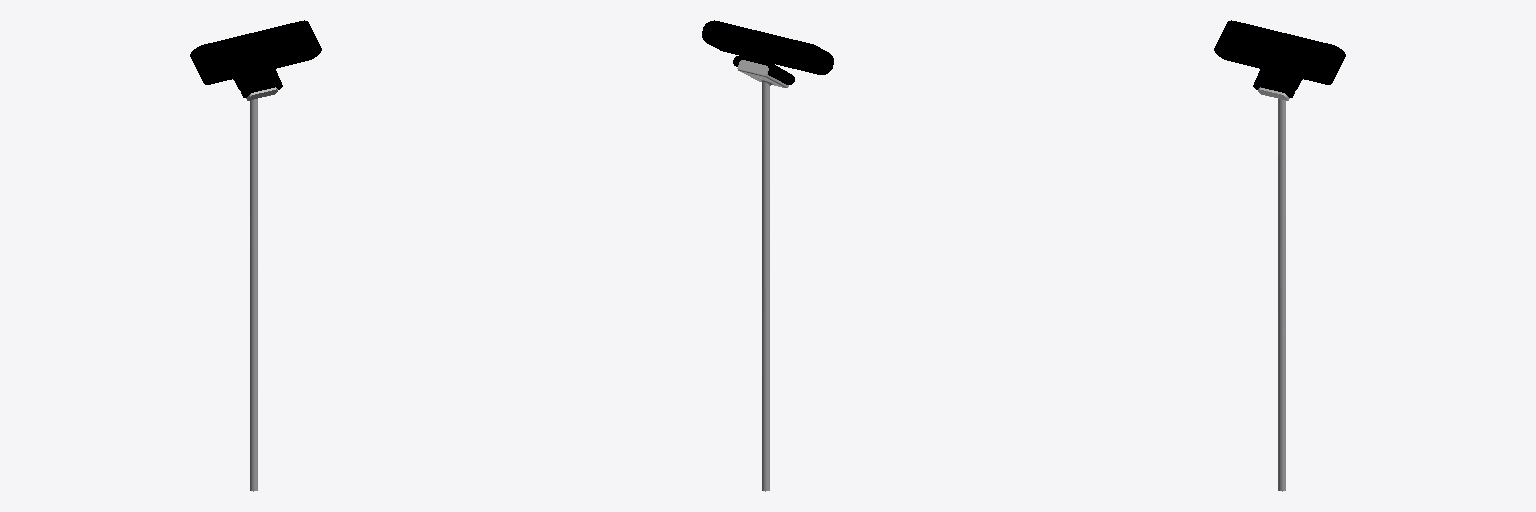
The robot description file, URDF, robot "astra_camera":
<?xml version="1.0" ?>
<robot name="astra_camera" xmlns:body="http://playerstage.sourceforge.net/gazebo/xmlschema/#body" xmlns:controller="http://playerstage.sourceforge.net/gazebo/xmlschema/#controller" xmlns:gazebo="http://playerstage.sourceforge.net/gazebo/xmlschema/#gz" xmlns:geom="http://playerstage.sourceforge.net/gazebo/xmlschema/#geom" xmlns:interface="http://playerstage.sourceforge.net/gazebo/xmlschema/#interface" xmlns:joint="http://playerstage.sourceforge.net/gazebo/xmlschema/#joint" xmlns:model="http://playerstage.sourceforge.net/gazebo/xmlschema/#model" xmlns:physics="http://playerstage.sourceforge.net/gazebo/xmlschema/#physics" xmlns:renderable="http://playerstage.sourceforge.net/gazebo/xmlschema/#renderable" xmlns:rendering="http://playerstage.sourceforge.net/gazebo/xmlschema/#rendering" xmlns:sensor="http://playerstage.sourceforge.net/gazebo/xmlschema/#sensor" xmlns:xacro="http://ros.org/wiki/xacro" xmlns:xi="http://www.w3.org/2001/XInclude">
   <link name="root">
    <inertial>
      <mass value="1.0"/>
      <origin xyz="0 0 0"/>
      <inertia ixx="0.01" ixy="0.0" ixz="0.0" iyy="0.01" iyz="0.0" izz="0.01"/>
    </inertial>
  </link>

  <link name="camera_holder">
    <visual>
      <geometry>
        <mesh filename="meshes/camera_holder.STL"/>
      </geometry>
      <material name="gray">
        <color rgba="0.75 0.75 0.75 1"/>
      </material>
    </visual>
    <collision>
      <geometry>
        <mesh filename="meshes/camera_holder.STL"/>
      </geometry>
    </collision>
  </link>
  <joint name="joint_camera_holder" type="fixed">
    <parent link="root"/>
    <child link="camera_holder"/>
    <axis xyz="0 0 0"/>
    <origin rpy="0 0 0" xyz="0 0 0"/>
  </joint>

  <link name="camera">
    <visual>
      <geometry>
        <mesh filename="meshes/camera.STL"/>
      </geometry>
      <material name="black">
        <color rgba="0 0 0 1"/>
      </material>
    </visual>
    <collision>
      <geometry>
        <mesh filename="meshes/camera.STL"/>
      </geometry>
    </collision>
  </link>
  <joint name="joint_camera" type="fixed">
    <parent link="root"/>
    <child link="camera"/>
    <axis xyz="0 0 0"/>
    <origin rpy="0 0 0" xyz="0 0 0"/>
  </joint>

</robot>

--- Render facts (derived) ---
3 views of the same robot in one strip: view 1: azimuth 30°, elevation 25°; view 2: azimuth 150°, elevation 25°; view 3: azimuth 330°, elevation 25° (orthographic).
Robot: astra_camera — 3 links, 2 joints (2 fixed); root link root; default pose: every joint at zero.
Links seen in each view (by area): view 1: camera, camera_holder; view 2: camera, camera_holder; view 3: camera, camera_holder.
Link boxes in pixels (x1,y1,x2,y2): camera: (190, 20, 321, 97); camera_holder: (246, 87, 277, 491); camera: (702, 20, 833, 84); camera_holder: (737, 60, 788, 491); camera: (1214, 20, 1345, 97); camera_holder: (1258, 87, 1289, 491).
Size in the robot's own frame: 0.1648 by 0.0693 by 0.6129 metres.
Meshes: 2 distinct files referenced, 2 mesh visuals loaded (2 binary STL).
